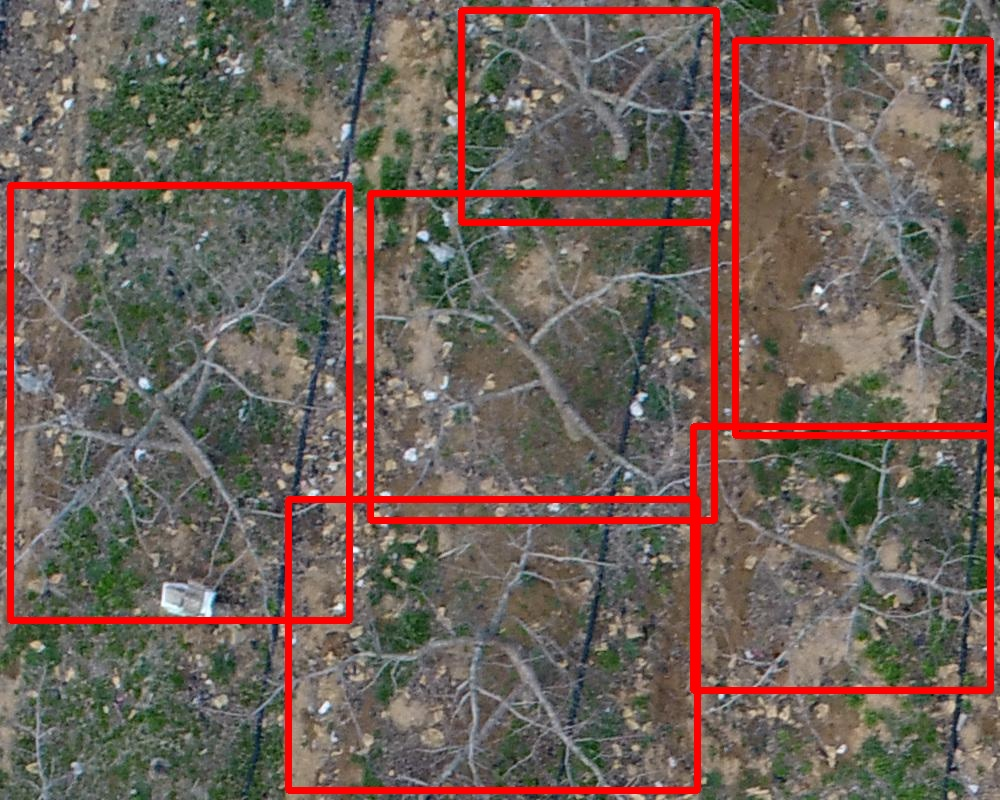apple: (10, 185, 349, 620), (288, 499, 697, 790), (370, 193, 714, 520), (735, 40, 990, 435), (693, 426, 990, 690), (461, 10, 716, 222)
